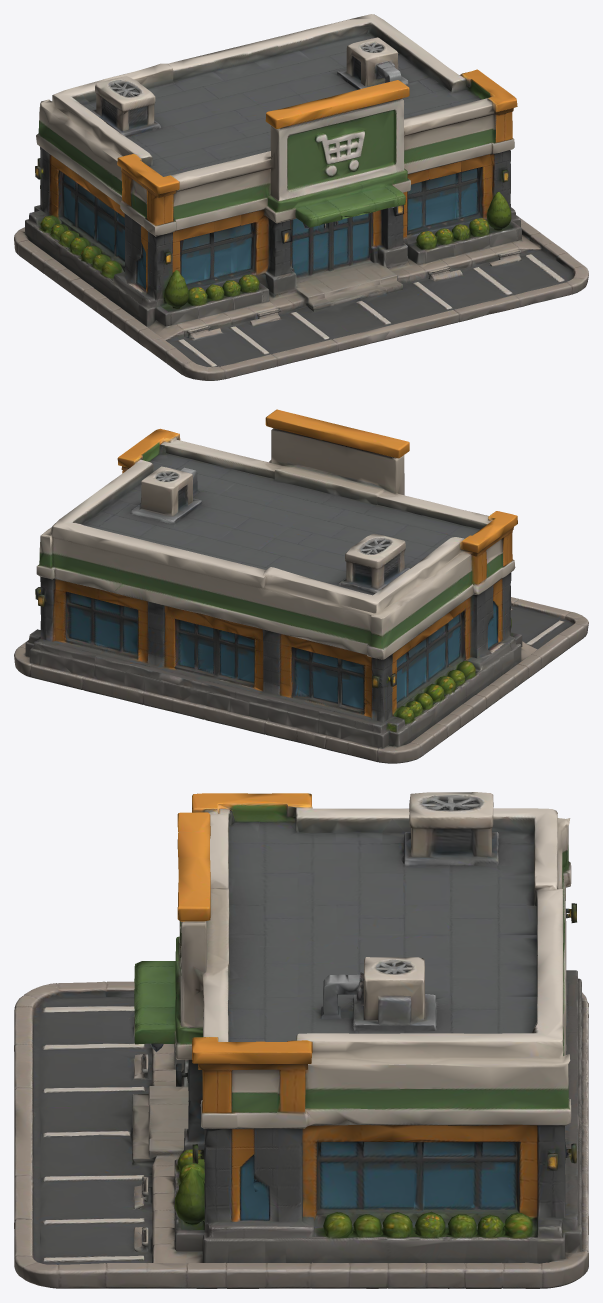
Rendered from supermarket.glb.
3 renders of one model, top to bottom at view 1: azimuth 30°, elevation 25°; view 2: azimuth 150°, elevation 25°; view 3: azimuth 270°, elevation 25°, orthographic. The views are drawn at different scales.
Visible parts, largest first — view 1: tripo_node_d6176082-b01c-4664-8f27-9ce15e22e3d4; view 2: tripo_node_d6176082-b01c-4664-8f27-9ce15e22e3d4; view 3: tripo_node_d6176082-b01c-4664-8f27-9ce15e22e3d4.
Part boxes in pixels (x1,y1,x2,y2): tripo_node_d6176082-b01c-4664-8f27-9ce15e22e3d4: (14,14,588,380); tripo_node_d6176082-b01c-4664-8f27-9ce15e22e3d4: (14,409,588,763); tripo_node_d6176082-b01c-4664-8f27-9ce15e22e3d4: (14,792,588,1288).
Size of the model in its own units: 1 by 0.4585 by 0.8369.
Materials: 1 (1 with a texture image).
